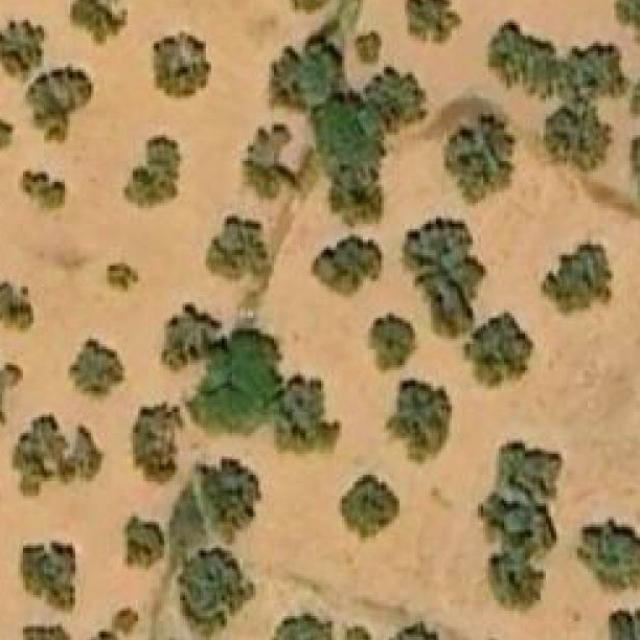Tree: (403, 213, 486, 337), (316, 93, 392, 222), (12, 415, 104, 499), (206, 328, 279, 433), (180, 550, 251, 632), (544, 234, 612, 313), (389, 379, 452, 462), (26, 67, 94, 143), (447, 111, 509, 192), (311, 232, 384, 300), (540, 98, 612, 166), (274, 378, 337, 455), (466, 311, 532, 384), (577, 517, 640, 593), (122, 135, 183, 213), (481, 494, 557, 556), (274, 46, 340, 117), (486, 25, 556, 91), (128, 402, 183, 483), (240, 125, 300, 198), (560, 38, 628, 98), (154, 30, 211, 101), (201, 462, 253, 539), (206, 222, 264, 288), (342, 475, 403, 537), (68, 337, 125, 402), (23, 542, 75, 608), (156, 311, 216, 368), (368, 313, 420, 375), (499, 440, 561, 490), (366, 75, 421, 128), (0, 18, 47, 80), (402, 0, 462, 46), (70, 0, 128, 46), (18, 169, 68, 222), (488, 558, 541, 608), (128, 516, 164, 569), (0, 279, 33, 334), (266, 613, 332, 640), (0, 360, 23, 436), (105, 255, 141, 295), (384, 621, 446, 640), (606, 605, 640, 639), (616, 0, 640, 46), (18, 623, 70, 640), (356, 33, 382, 65), (0, 117, 21, 152), (631, 132, 640, 211), (293, 0, 329, 13), (347, 626, 371, 640)
